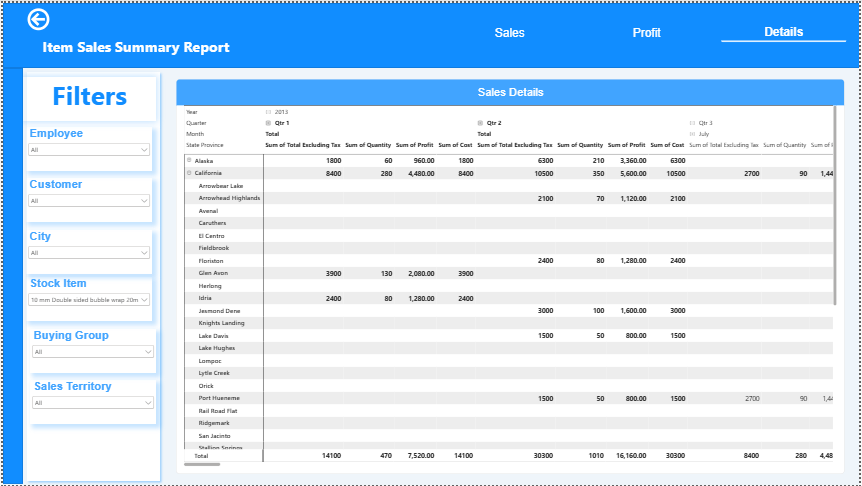

The dashboard page shown, as its layout file describes it:
{"tool":"powerbi","page":{"name":"Details","canvas":[1920,1080],"ordinal":2},"visuals":[{"type":"pivotTable","title":"Sales Details","fields":{"Columns":["DimData.Date.Variation.Date Hierarchy.Year","DimData.Date.Variation.Date Hierarchy.Quarter","DimData.Date.Variation.Date Hierarchy.Month","DimData.Date.Variation.Date Hierarchy.Day"],"Rows":["DimCity.State Province","DimCity.City"],"Values":["Sum(FactSale.Total Excluding Tax)","Sum(FactSale.Quantity)","Sum(FactSale.Profit)","Sum(FactSale.Cost)"]},"box":[387.6,170.3,1497.9,885.1],"z":0},{"type":"shape","box":[0,0,1920.2,145.6],"z":1000},{"type":"shape","box":[44.8,145.6,315.9,934.4],"z":2000},{"type":"slicer","fields":{"Values":["DimEmpolyee.Employee"]},"box":[51.1,278.7,283,97.9],"z":3000},{"type":"textbox","box":[44.8,165.8,298,98.6],"z":4000},{"type":"shape","box":[0,145.6,44.8,932.1],"z":5000},{"type":"textbox","box":[44.8,73.9,506.4,47.1],"z":6000},{"type":"slicer","fields":{"Values":["DimCustomer.Customer"]},"box":[51.1,391.5,283,97.9],"z":7000},{"type":"slicer","fields":{"Values":["DimCity.City"]},"box":[51.1,508.5,283,97.9],"z":8000},{"type":"slicer","fields":{"Values":["DimStockItem.Stock Item"]},"box":[51.1,614.9,283,97.9],"z":9000},{"type":"slicer","fields":{"Values":["DimCustomer.Buying Group"]},"box":[59.6,729.8,283,97.9],"z":10000},{"type":"slicer","fields":{"Values":["DimCity.Sales Territory"]},"box":[59.6,844.7,283,97.9],"z":11000},{"type":"actionButton","box":[0,0,159.6,72.3],"z":12000},{"type":"pageNavigator","box":[985.1,36.2,914.9,61.7],"z":13000}]}

Visuals, with their boxes on the page's 1920x1080 design canvas (x1, y1, x2, y2). These are canvas units, not pixel positions in the 862x486 screenshot, which may show the page scaled, cropped or inside an application window:
"Sales Details" pivotTable: (388,170,1886,1055)
shape: (0,0,1920,146)
shape: (45,146,361,1080)
slicer - DimEmpolyee.Employee: (51,279,334,377)
textbox: (45,166,343,264)
shape: (0,146,45,1078)
textbox: (45,74,551,121)
slicer - DimCustomer.Customer: (51,392,334,489)
slicer - DimCity.City: (51,508,334,606)
slicer - DimStockItem.Stock Item: (51,615,334,713)
slicer - DimCustomer.Buying Group: (60,730,343,828)
slicer - DimCity.Sales Territory: (60,845,343,943)
actionButton: (0,0,160,72)
pageNavigator: (985,36,1900,98)
